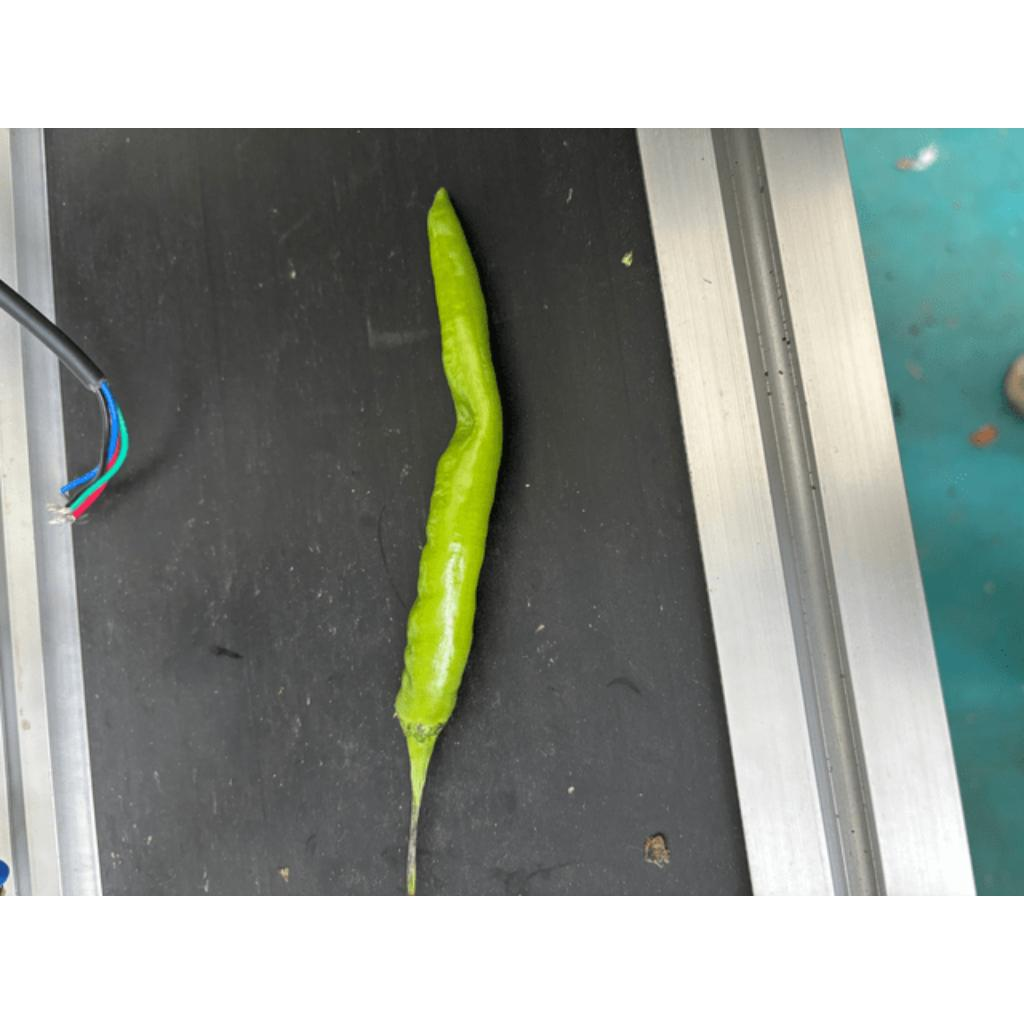chili: (391, 181, 509, 750)
